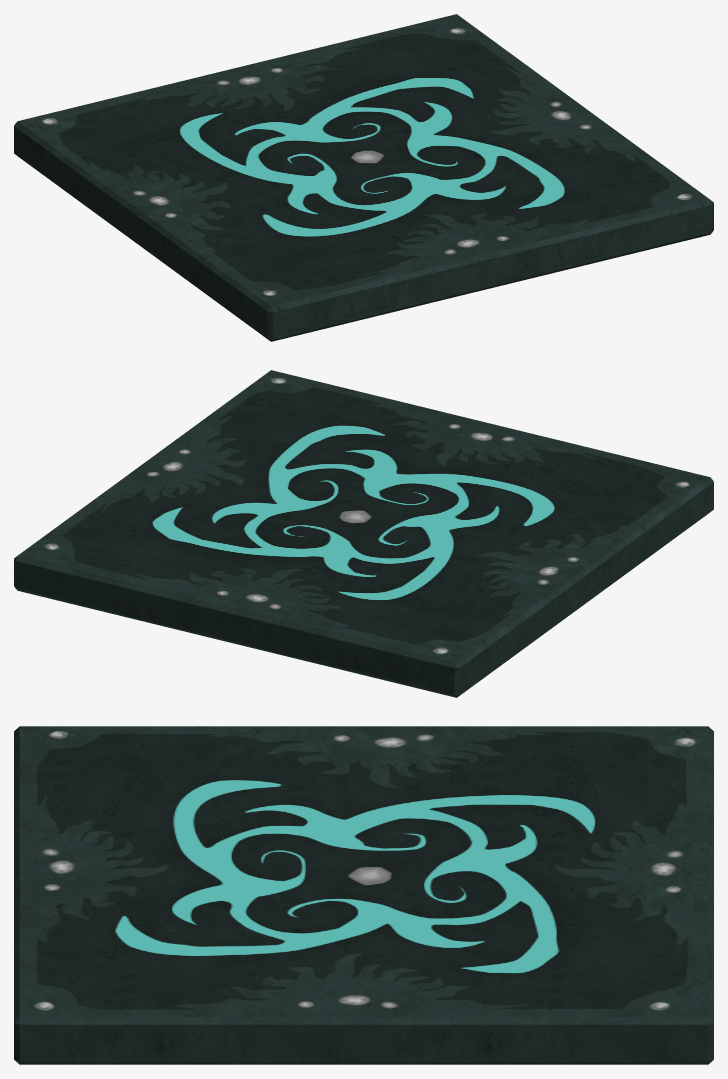
File: GlowingSquare_.fbx
3 renders of one model, top to bottom at view 1: azimuth 30°, elevation 25°; view 2: azimuth 150°, elevation 25°; view 3: azimuth 270°, elevation 25°, orthographic. The views are drawn at different scales.
Parts seen in each view (by area): view 1: GlowingSquare1; view 2: GlowingSquare1; view 3: GlowingSquare1.
Part boxes in pixels (x1,y1,x2,y2): GlowingSquare1: [14, 14, 713, 341]; GlowingSquare1: [14, 370, 713, 697]; GlowingSquare1: [14, 726, 713, 1064].
Size of the model in its own units: 25.1 by 1.89 by 25.1.
Materials: 1 (1 with a texture image).
